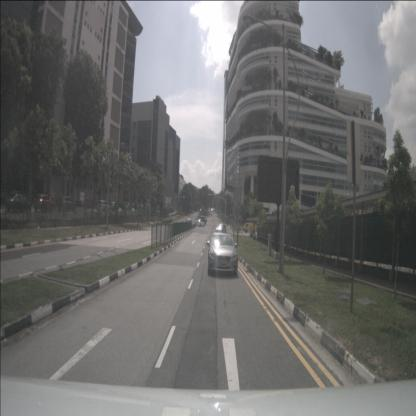human-pedestrian-adult: (274, 229, 278, 250)
vehicle-car: (208, 233, 238, 276), (6, 194, 31, 212), (34, 194, 55, 212), (58, 196, 76, 212), (97, 200, 110, 212), (243, 223, 257, 233), (216, 224, 226, 234), (123, 202, 132, 212), (195, 218, 205, 227), (109, 202, 118, 211), (134, 203, 142, 211), (186, 218, 192, 225)
